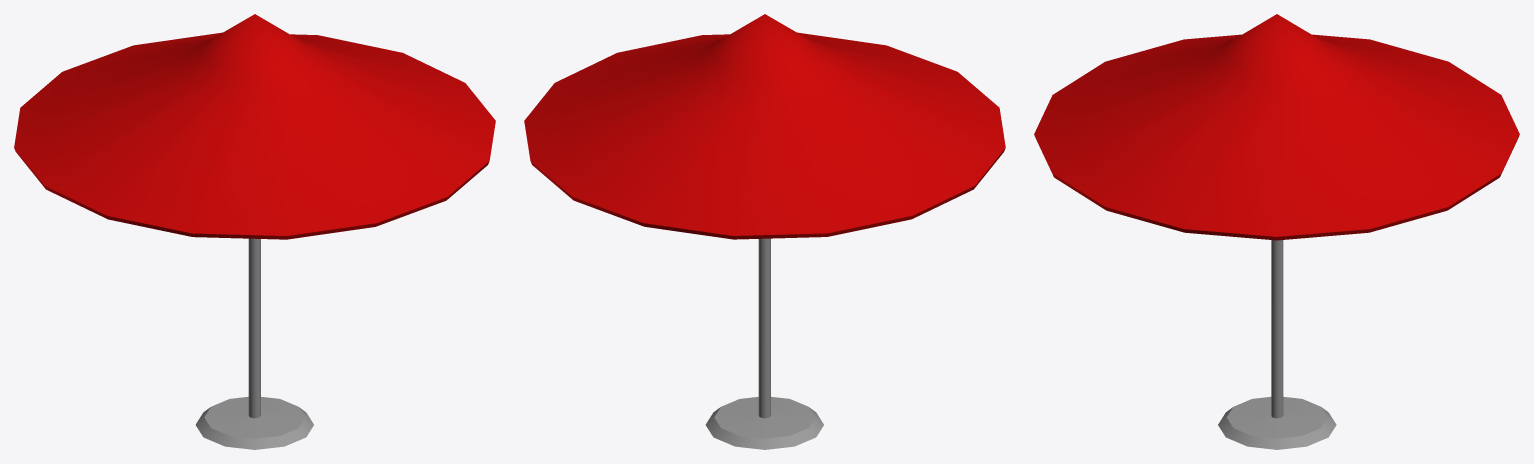
The model's file is MOD_ParasolA.FBX.
3 renders of one model, left to right at view 1: azimuth 30°, elevation 25°; view 2: azimuth 150°, elevation 25°; view 3: azimuth 270°, elevation 25°, orthographic.
Parts seen in each view (by area): view 1: Line002; view 2: Line002; view 3: Line002.
Part boxes in pixels (x1,y1,x2,y2): Line002: (14,14,495,449); Line002: (524,14,1005,449); Line002: (1034,14,1519,449).
Bounding box in the file's own units: 80.37 × 75 × 80.37.
